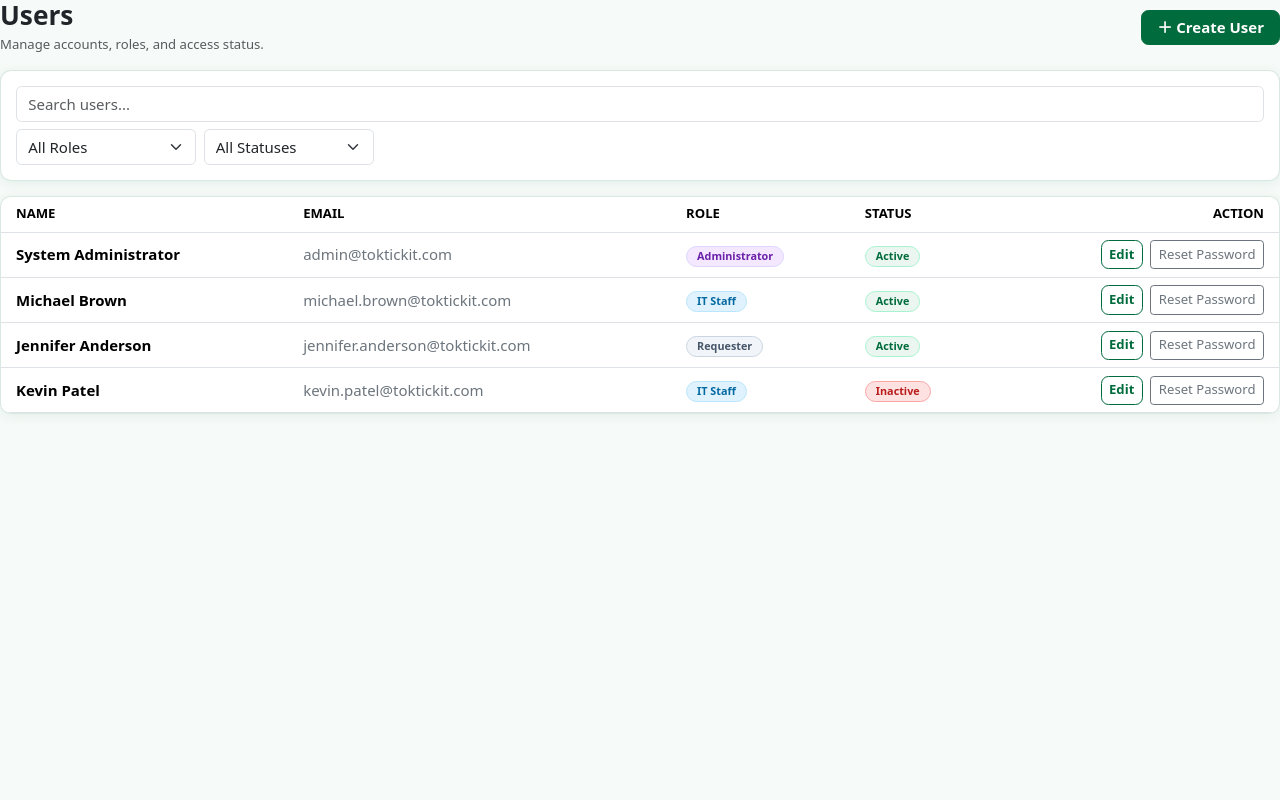
Test: UserManagement Screen (/admin/users) › opens the Create User modal and blocks invalid input with validation errors
expect the text "System Administrator" is shown: met, box [1,232,296,277]
Click the button "＋ Create User": (1211, 28) [1141,10,1279,45]
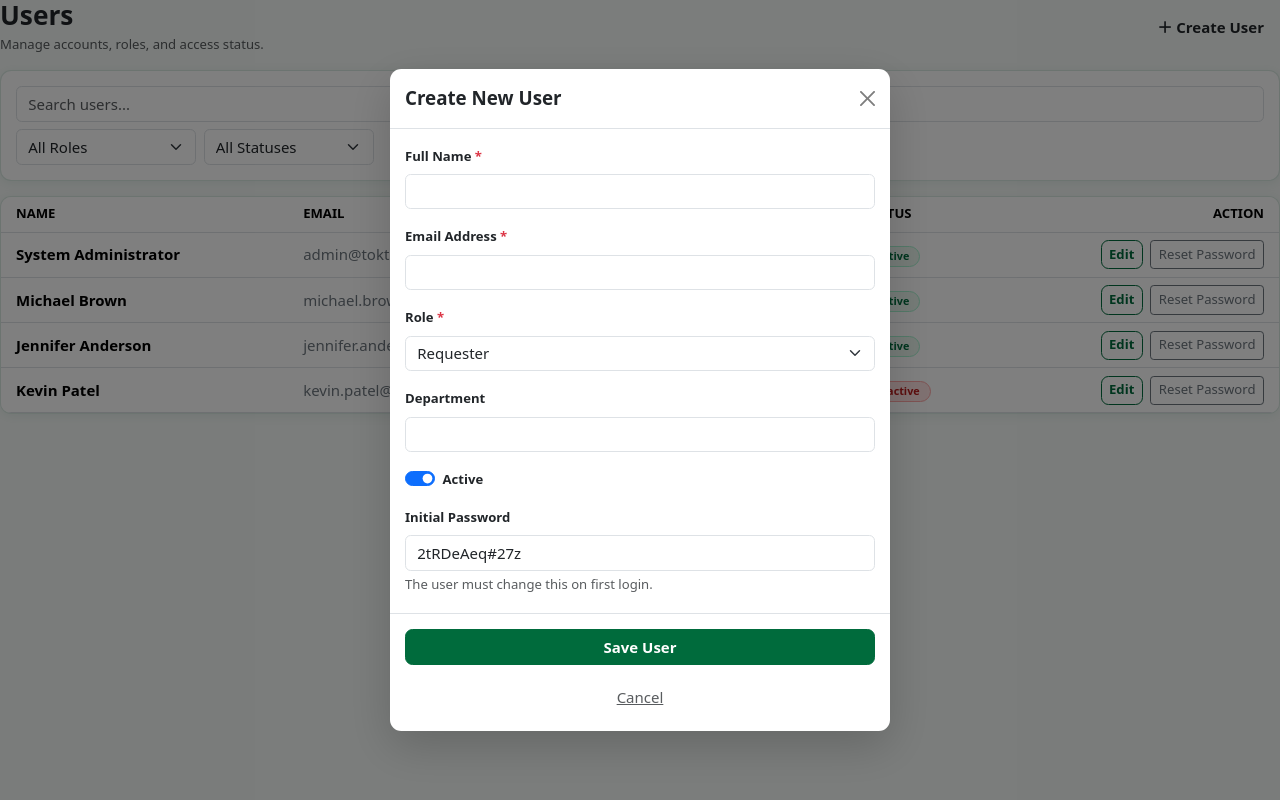
Clear the field labelled "Full Name *": (640, 192) [405,174,875,210]
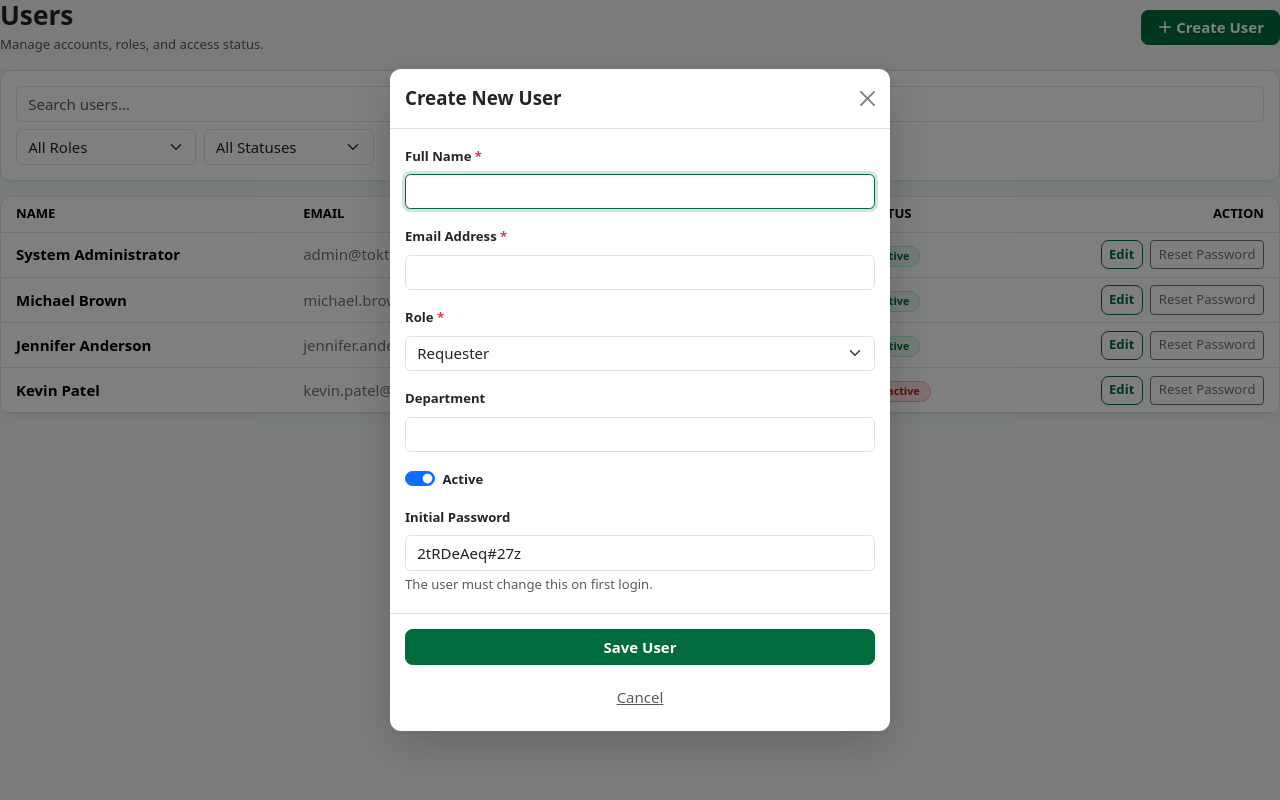
Clear the field labelled "Email Address *": (640, 273) [405,255,875,290]
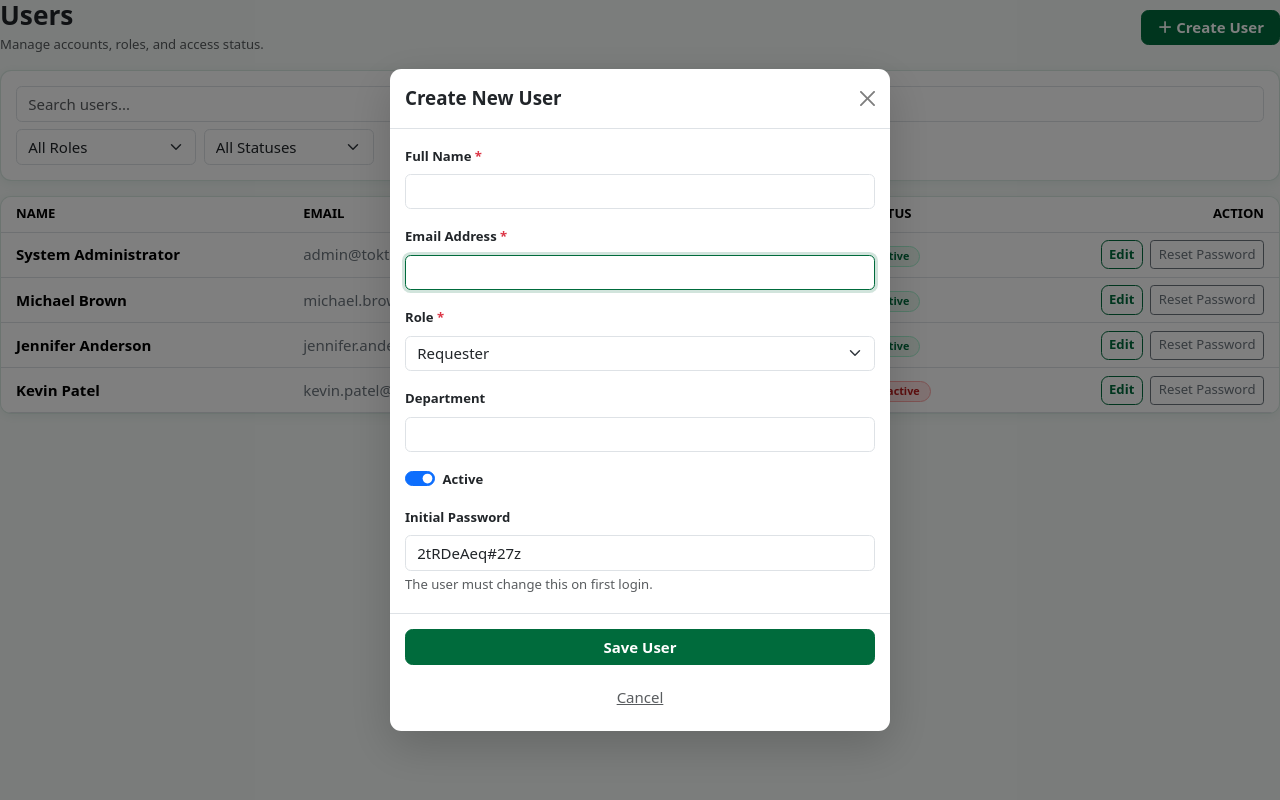
Click the button "Save User": (640, 647) [405,629,875,665]
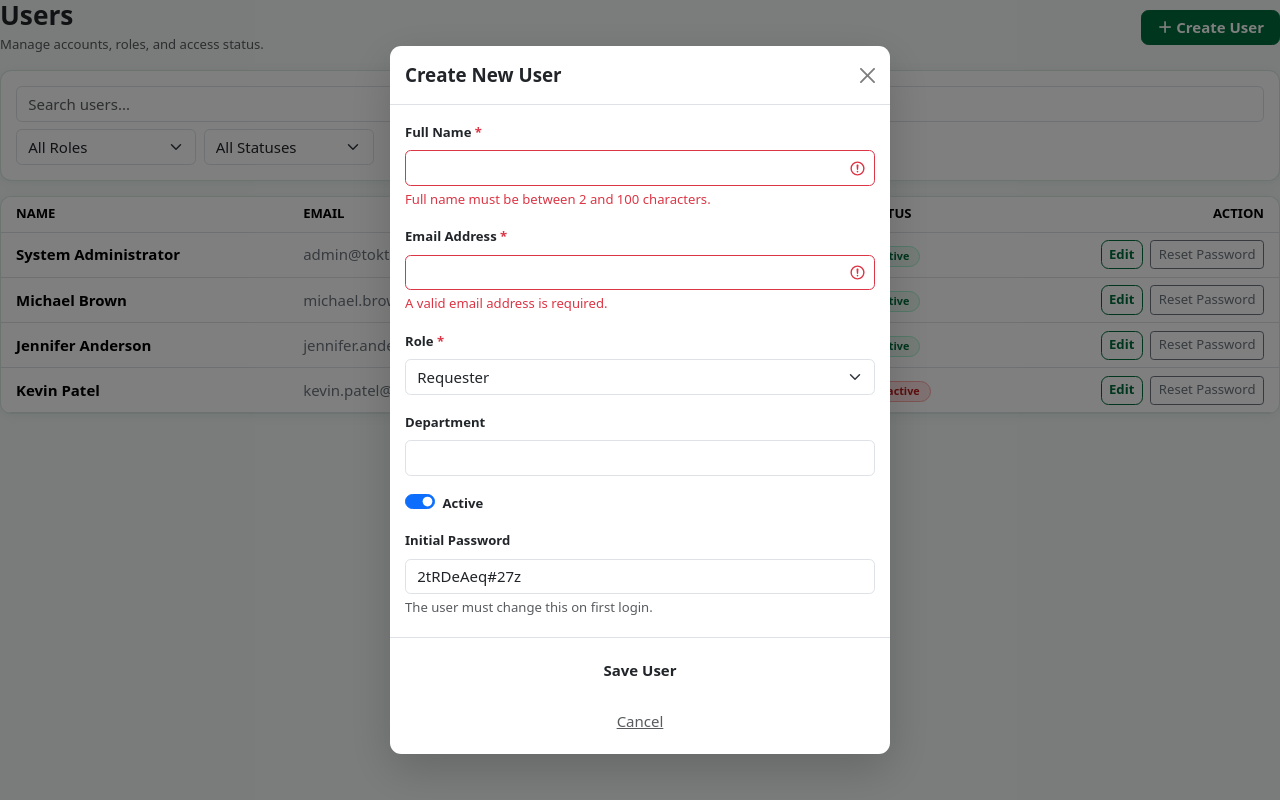
expect the text "Full name must be between 2 and 100 characters." is shown: met, box [405,190,711,208]
expect the text "A valid email address is required." is shown: met, box [405,294,608,312]
